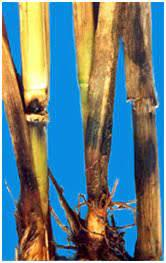Stem Rot: (122, 3, 166, 263), (91, 3, 112, 211), (22, 41, 47, 183), (69, 0, 96, 91)
